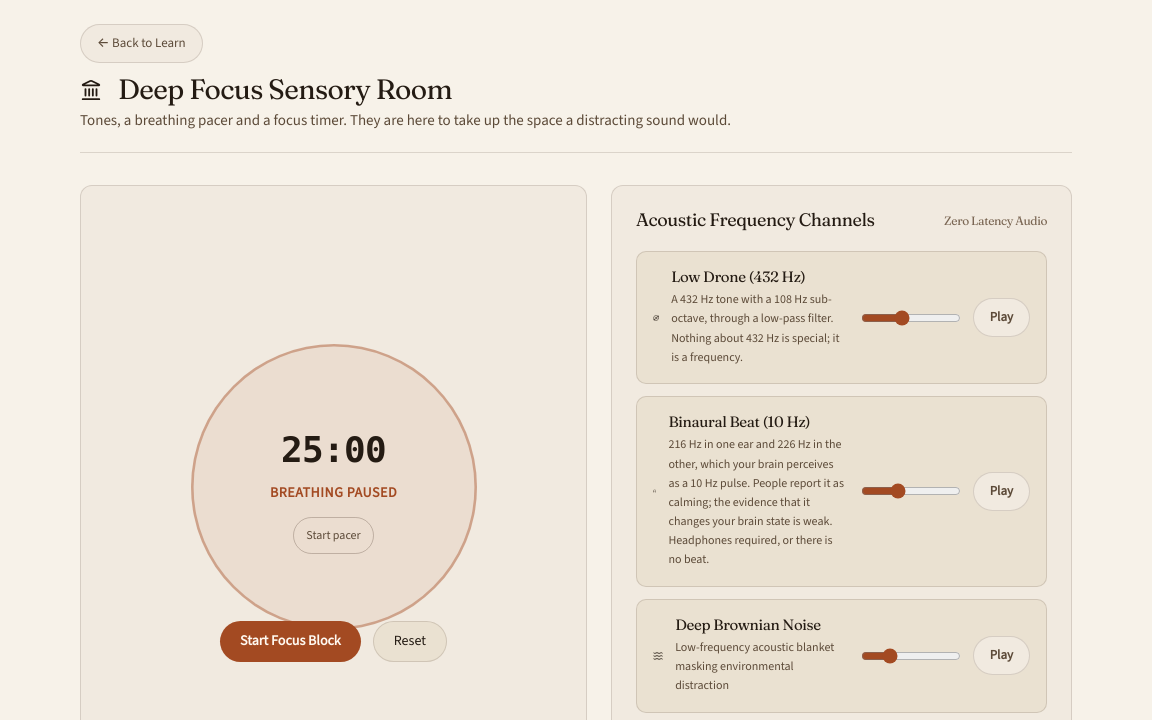
Scenario: Sensory Rooms › the pacer can be started and stopped
The image size is (1152, 720).
Click the button "Start pacer" at coordinates (334, 536), box 293,517 -> 374,554
Wait 4100 ms
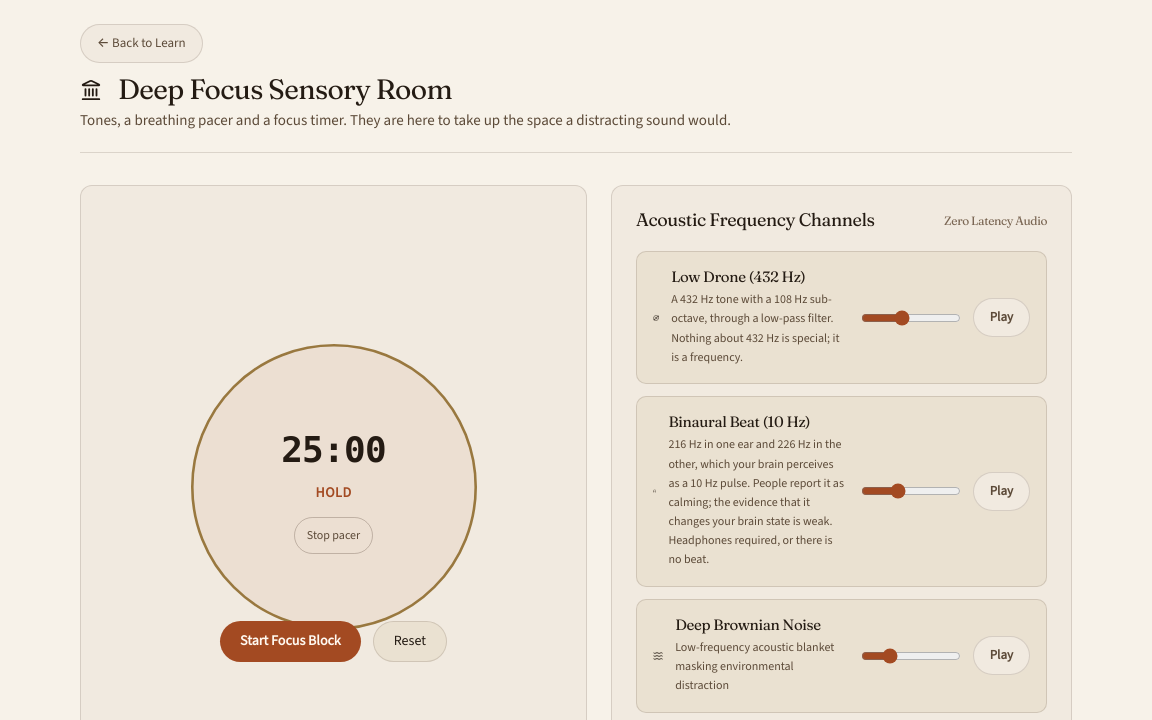
Now the text "hold" is shown, box 316,482 -> 352,505
Click the button "Stop pacer" at coordinates (334, 536), box 294,517 -> 373,554
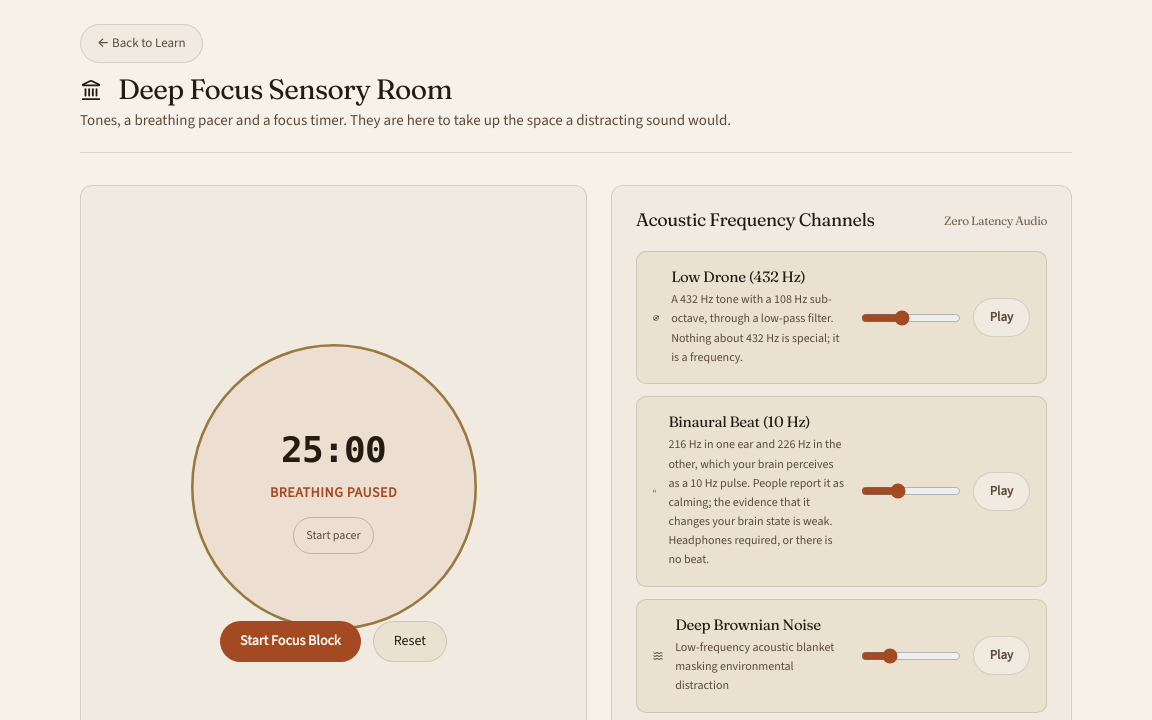
Now the text "breathing paused" is shown, box 270,482 -> 397,505
